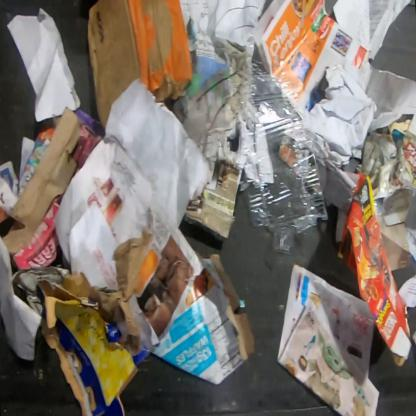cardboard: (12, 224, 162, 415), (0, 103, 106, 272), (333, 172, 413, 369), (86, 0, 193, 131), (153, 253, 256, 386), (252, 0, 372, 111), (354, 129, 415, 200), (381, 189, 412, 270)
rigid_plastic: (239, 33, 331, 256)
